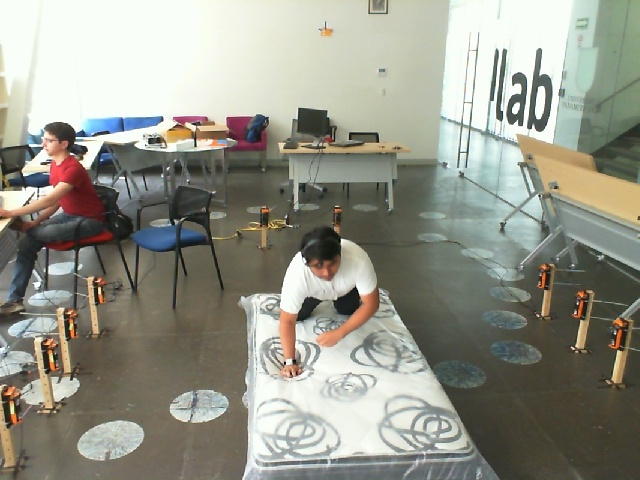fall: (269, 218, 386, 384)
not_fallen: (0, 109, 100, 314)
